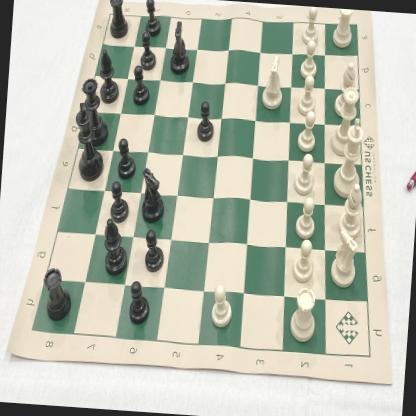black-bishop: (102, 221, 131, 275), (98, 48, 122, 105)
black-king: (70, 101, 108, 182)
black-knight: (139, 164, 169, 224), (169, 19, 193, 76)
black-pawn: (142, 227, 168, 274), (129, 280, 153, 324), (107, 180, 130, 224), (116, 136, 138, 178), (196, 100, 217, 144), (131, 66, 152, 106), (143, 0, 163, 37), (140, 32, 158, 71)
black-queen: (76, 76, 112, 147)
black-rook: (40, 264, 74, 323), (106, 0, 131, 40)
white-bishop: (337, 181, 364, 240), (333, 60, 358, 118)
white-king: (332, 115, 366, 199)
white-knight: (328, 224, 361, 289), (258, 50, 288, 115)
white-pawn: (294, 196, 321, 244), (291, 239, 318, 284), (294, 110, 321, 153), (292, 152, 318, 196), (209, 284, 233, 330), (296, 75, 320, 115), (296, 40, 320, 79), (302, 6, 320, 46)
white-queen: (330, 85, 360, 157)
white-rook: (290, 285, 320, 343), (332, 9, 355, 48)
